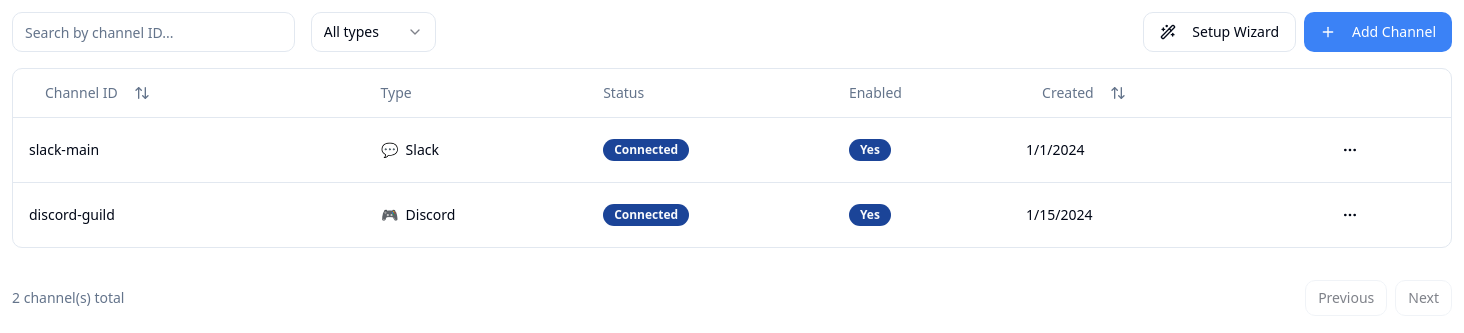
Scenario: ChannelsTable › search input filters channels
Type "slack" into the field with placeholder "Search by channel ID...". click: x=153, y=32
box: [12,12,295,52]
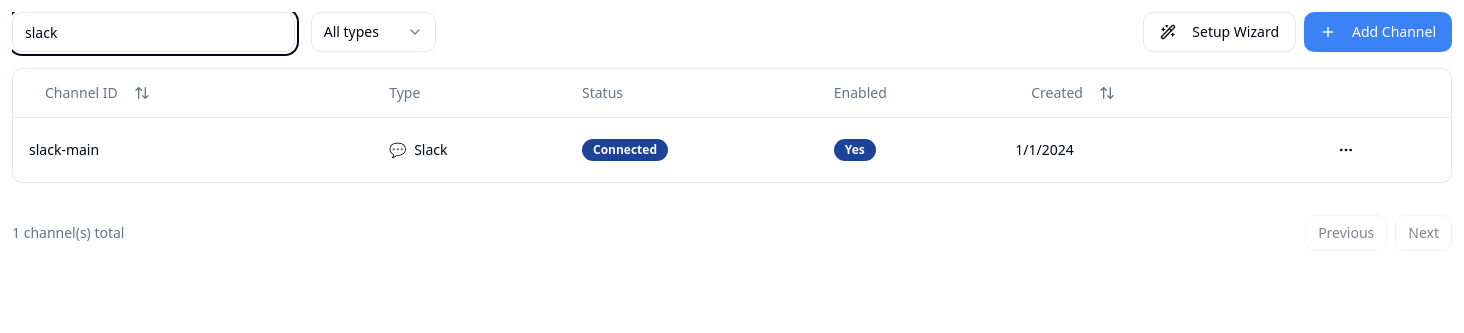
Expected: the text "slack-main" is shown, [29,140,99,158]
Now the text "discord-guild" is gone
